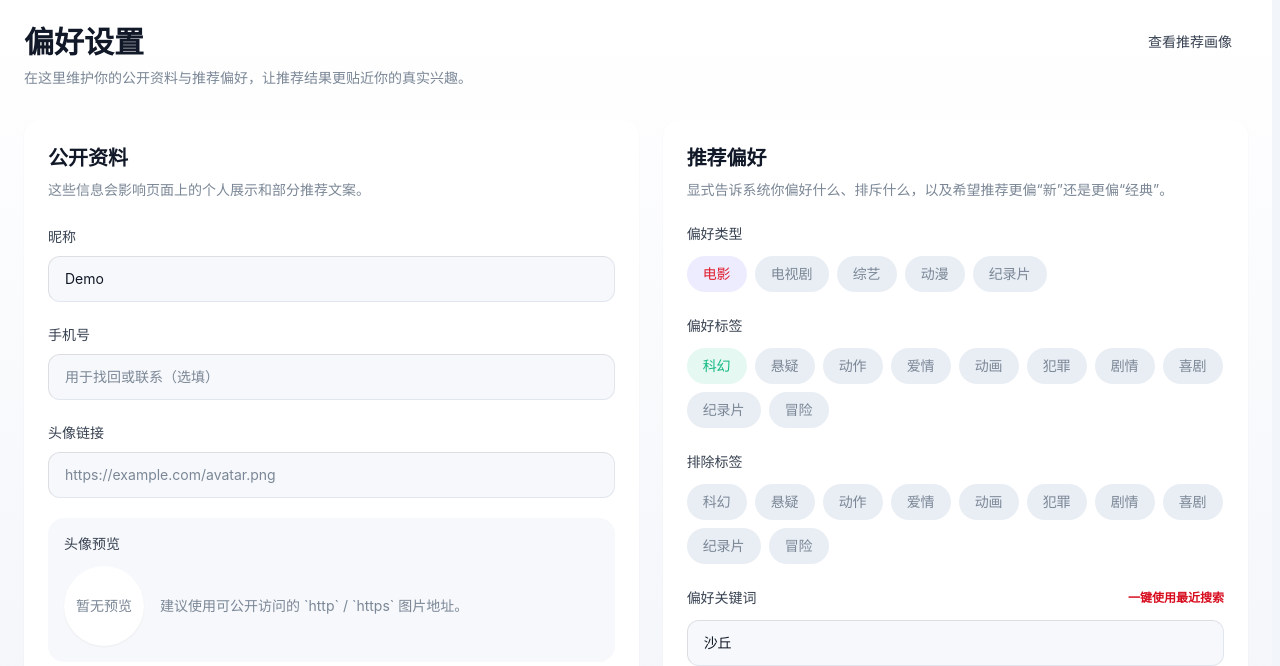
Test: SettingsView › shows an unsaved changes reminder after editing the form
The image size is (1280, 666).
Replace the text in the field labelled "昵称" with "另一个昵称". click: (331, 279)
box: 48,256 -> 615,302
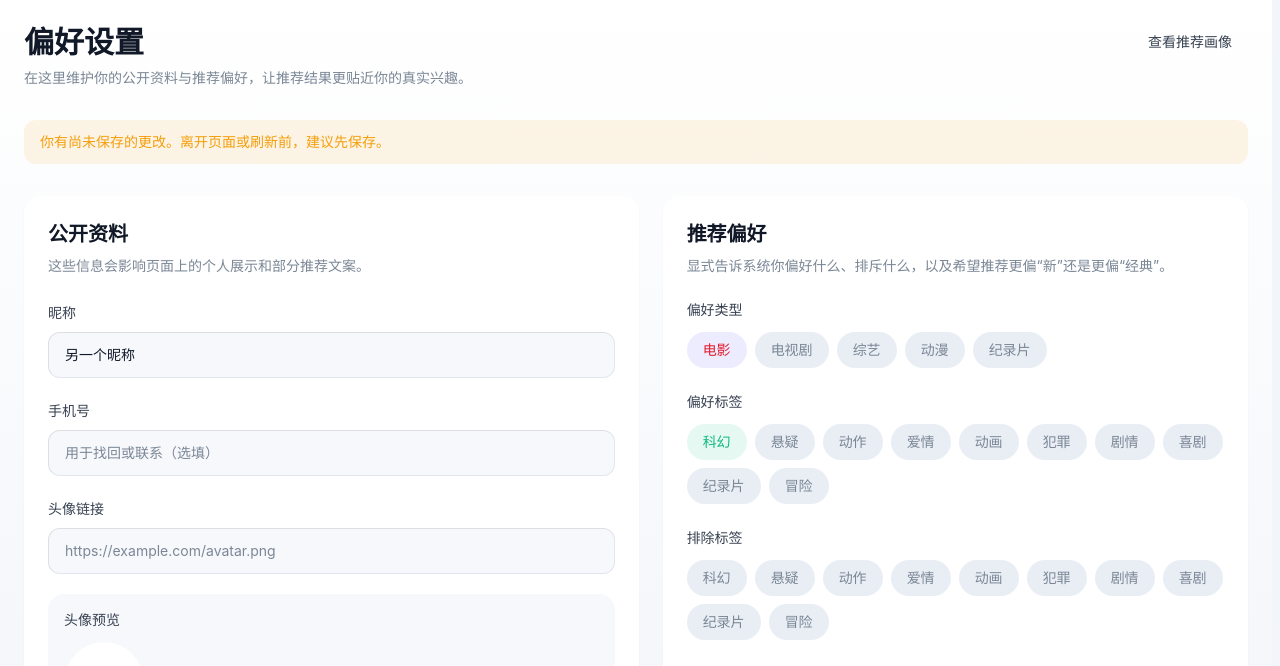
Check: the text "尚未保存的更改" is shown, box 40,133 -> 390,150
